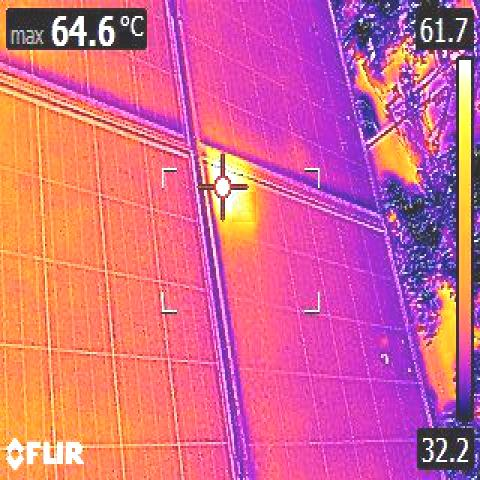fault: (232, 192, 256, 222)
